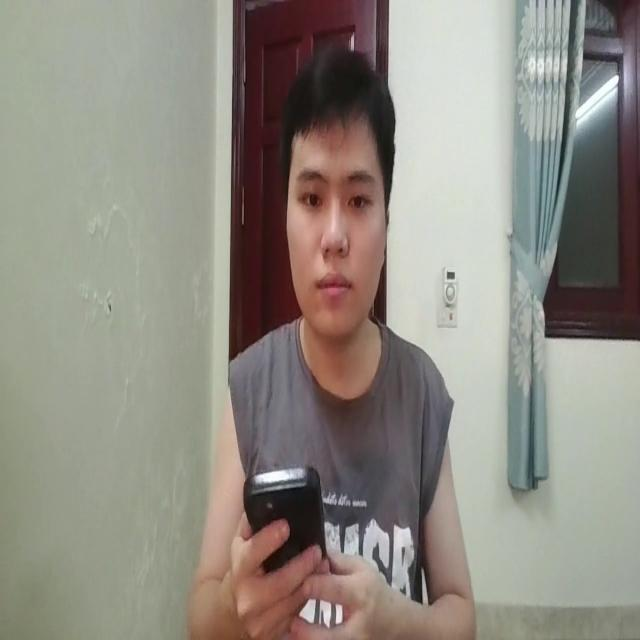phone: (244, 459, 326, 582)
student: (187, 49, 476, 640)
